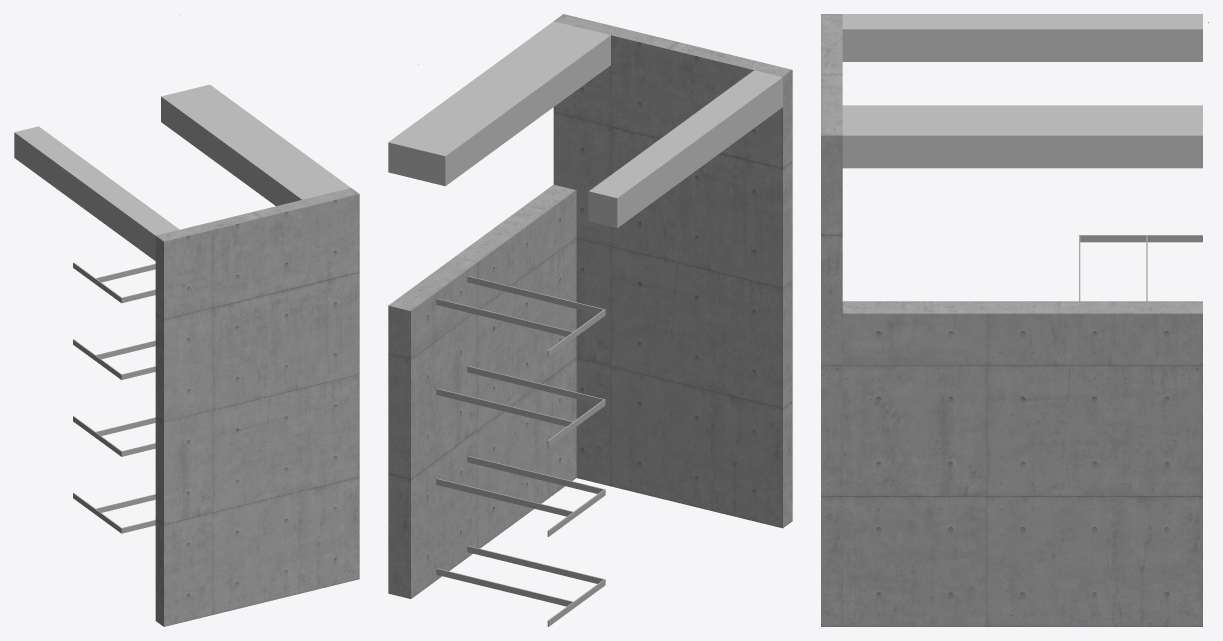
File: InfoStation.fbx
3 renders of one model, left to right at view 1: azimuth 30°, elevation 25°; view 2: azimuth 150°, elevation 25°; view 3: azimuth 270°, elevation 25°, orthographic. The views are drawn at different scales.
Visible parts, largest first — view 1: Extrusionskörper, Extrusionskörper_3, Extrusionskörper_16; view 2: Extrusionskörper, Extrusionskörper_2, Extrusionskörper_3, Extrusionskörper_16, Extrusionskörper_14, Extrusionskörper_4, Extrusionskörper_5, Extrusionskörper_11, Extrusionskörper_13, Extrusionskörper_7, Extrusionskörper_10, Extrusionskörper_8; view 3: Extrusionskörper_2, Extrusionskörper_3, Extrusionskörper_16, Extrusionskörper, Extrusionskörper_15.
Part boxes in pixels (left/top/right/bottom): Extrusionskörper: left=155, top=188, right=359, bottom=626; Extrusionskörper_3: left=161, top=84, right=350, bottom=205; Extrusionskörper_16: left=14, top=126, right=179, bottom=260; Extrusionskörper: left=553, top=14, right=792, bottom=528; Extrusionskörper_2: left=388, top=184, right=576, bottom=598; Extrusionskörper_3: left=388, top=21, right=610, bottom=186; Extrusionskörper_16: left=588, top=70, right=782, bottom=228; Extrusionskörper_14: left=436, top=298, right=574, bottom=337; Extrusionskörper_4: left=467, top=546, right=605, bottom=585; Extrusionskörper_5: left=436, top=568, right=574, bottom=607; Extrusionskörper_11: left=436, top=388, right=574, bottom=427; Extrusionskörper_13: left=467, top=276, right=605, bottom=315; Extrusionskörper_7: left=467, top=456, right=605, bottom=495; Extrusionskörper_10: left=467, top=366, right=605, bottom=405; Extrusionskörper_8: left=436, top=478, right=574, bottom=517; Extrusionskörper_2: left=842, top=301, right=1202, bottom=626; Extrusionskörper_3: left=842, top=105, right=1202, bottom=168; Extrusionskörper_16: left=842, top=14, right=1202, bottom=61; Extrusionskörper: left=821, top=14, right=842, bottom=626; Extrusionskörper_15: left=1080, top=235, right=1202, bottom=242.
Size of the model in its own units: 2 by 4.5 by 2.69.
